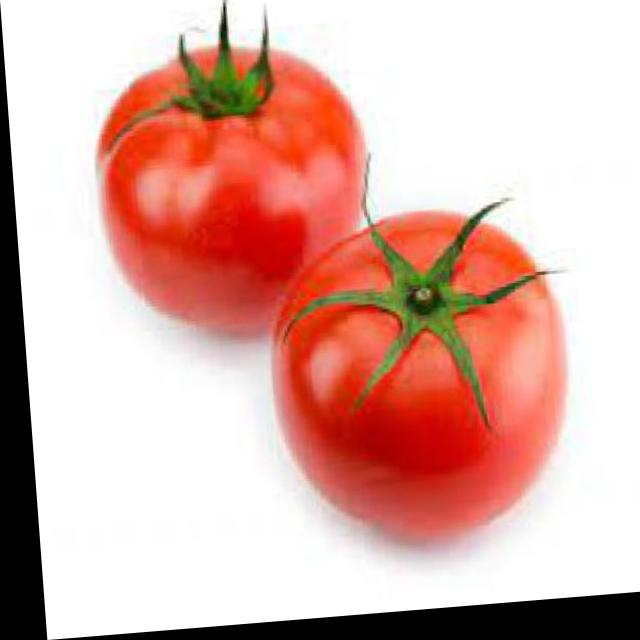kirmizi: (94, 21, 585, 569)
